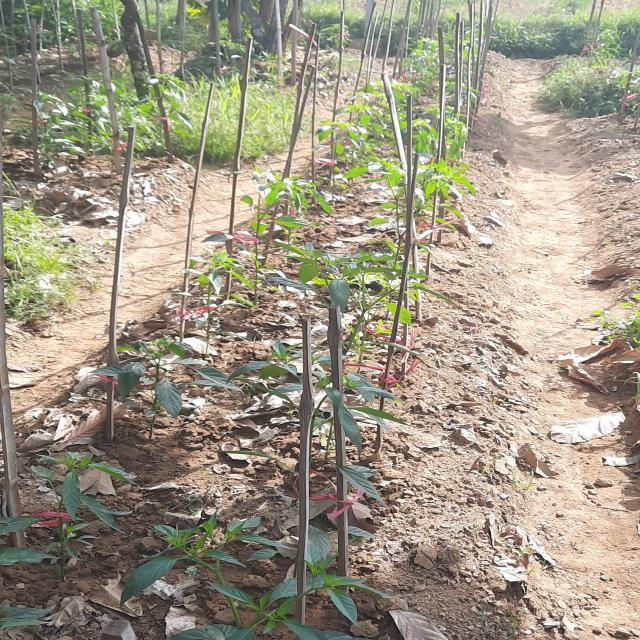sehat: (114, 560, 178, 602), (56, 474, 93, 523), (158, 376, 190, 416), (327, 277, 356, 310)
